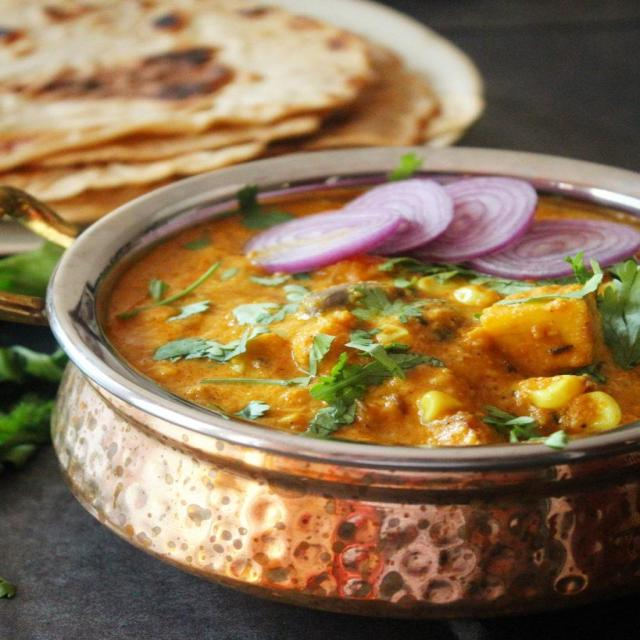roti: (4, 0, 427, 177)
